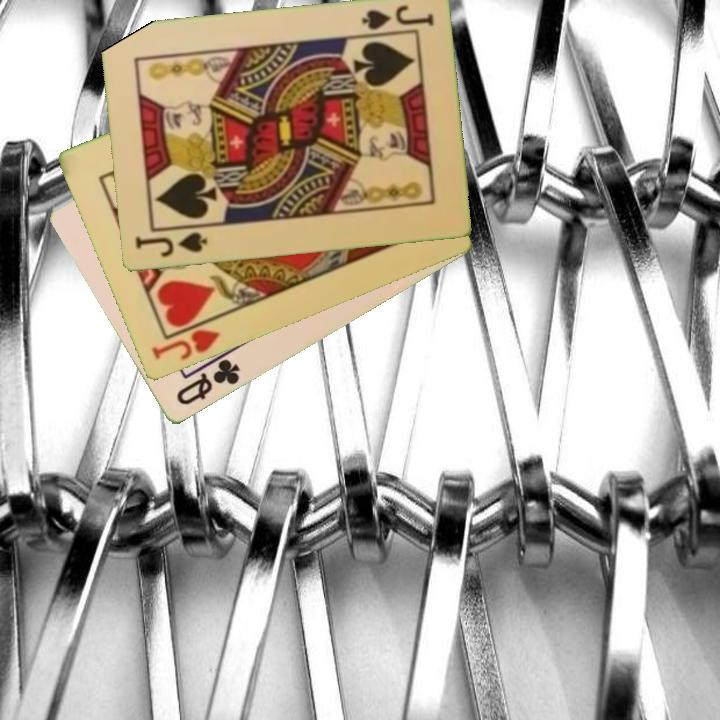Jh: (147, 313, 223, 364)
Js: (131, 229, 210, 261), (357, 2, 436, 34)
Qc: (173, 356, 244, 409)
